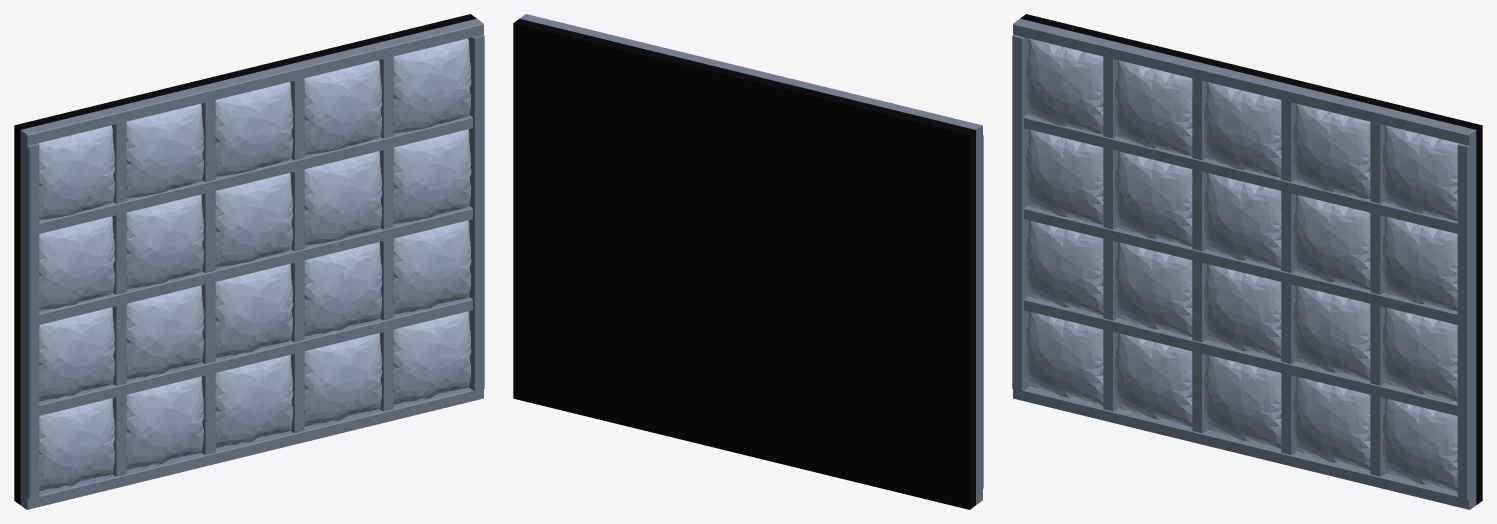
Rendered from pillow-wall.fbx.
3 views of the same model, side by side, from view 1: azimuth 30°, elevation 25°; view 2: azimuth 150°, elevation 25°; view 3: azimuth 330°, elevation 25° (orthographic).
Parts seen in each view (by area): view 1: pillow-wall-frame; view 2: pillow-wall-frame; view 3: pillow-wall-frame.
Part boxes in pixels (x1,y1,x2,y2): pillow-wall-frame: (14,14,484,509); pillow-wall-frame: (513,14,983,509); pillow-wall-frame: (1012,14,1482,509).
Bounding box in the file's own units: 4.2 × 0.2654 × 3.3.
1 material, 1 textured.
